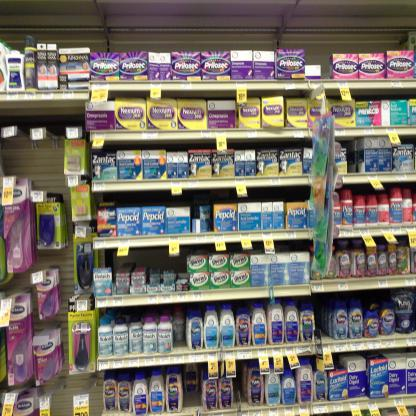Void: (3, 141, 58, 176), (180, 373, 201, 406), (304, 51, 328, 79), (132, 249, 167, 267), (315, 300, 331, 334), (234, 365, 247, 406)
